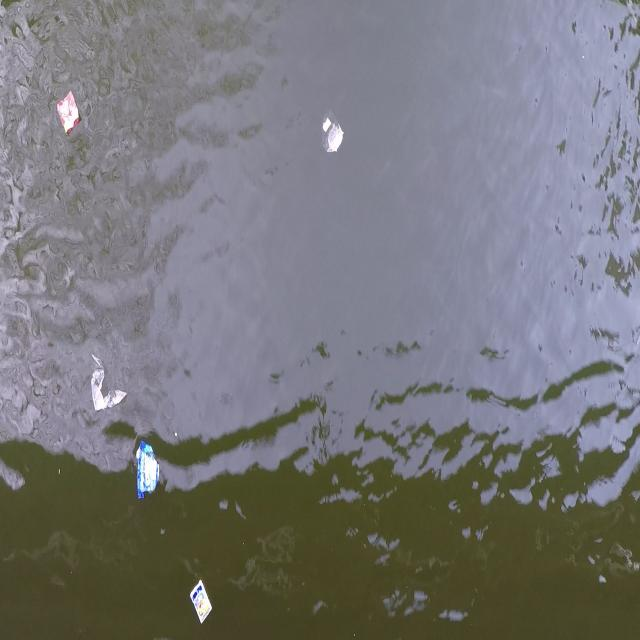Autre plastique: (132, 438, 163, 508), (186, 578, 216, 629), (55, 89, 84, 139)
Sac plastique: (84, 350, 130, 420), (314, 105, 348, 160)
